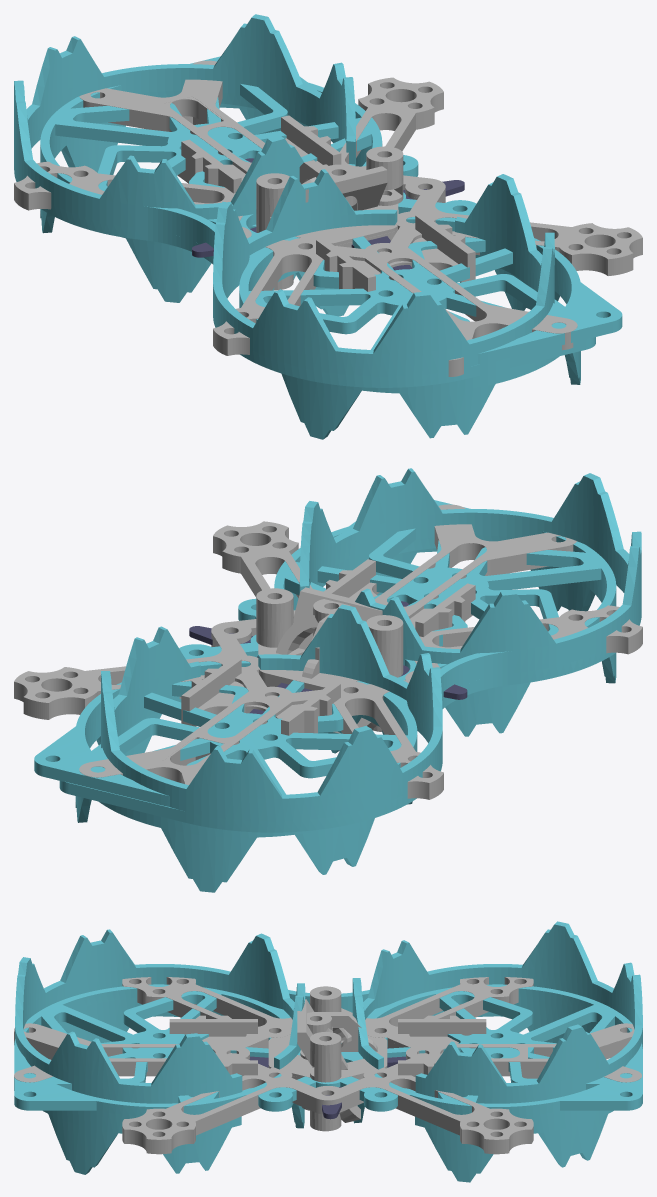
File: bateleur.v0.2.10.squashed.glb
3 renders of one model, top to bottom at view 1: azimuth 30°, elevation 25°; view 2: azimuth 150°, elevation 25°; view 3: azimuth 270°, elevation 25°, orthographic. The views are drawn at different scales.
Parts seen in each view (by area): view 1: PropguardsBottom, PropguardsTop, Coretop, Batteryplate, Antennamount, Corebottom, Prop, CameraBracket; view 2: PropguardsBottom, PropguardsTop, Coretop, Batteryplate, Antennamount, Corebottom, Prop, CameraBracket; view 3: PropguardsBottom, PropguardsTop, Coretop, Batteryplate, Corebottom, Antennamount, CameraBracket, Prop.
Boxes of the visible parts, x1,y1,x2,y2 form: PropguardsBottom: (14, 14, 595, 387); PropguardsTop: (40, 56, 622, 439); Coretop: (14, 60, 642, 376); Batteryplate: (181, 115, 475, 291); Antennamount: (256, 146, 403, 290); Corebottom: (80, 94, 486, 321); Prop: (192, 158, 464, 270); CameraBracket: (299, 160, 357, 210); PropguardsBottom: (59, 468, 641, 832); PropguardsTop: (34, 500, 616, 892); Coretop: (14, 504, 642, 799); Batteryplate: (181, 559, 475, 735); Antennamount: (256, 587, 403, 733); Corebottom: (81, 509, 572, 783); Prop: (189, 601, 467, 714); CameraBracket: (302, 599, 350, 678); PropguardsBottom: (15, 921, 642, 1104); PropguardsTop: (14, 984, 642, 1182); Coretop: (14, 977, 641, 1154); Batteryplate: (169, 1015, 486, 1112); Corebottom: (25, 1027, 641, 1112); Antennamount: (297, 986, 360, 1131); CameraBracket: (300, 1012, 377, 1110); Prop: (249, 1048, 406, 1119).
Size of the model in its own units: 78 by 28.08 by 119.
